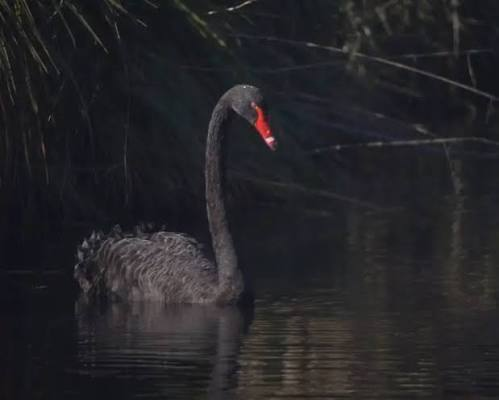black_swan: (74, 83, 277, 309)
